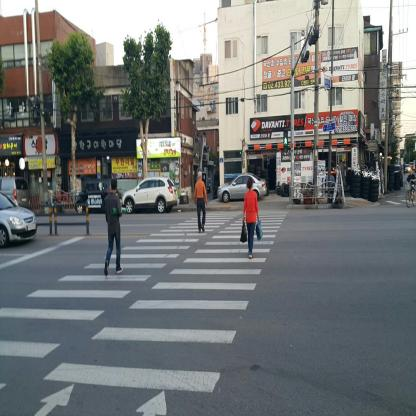Green: (284, 129, 288, 152)
